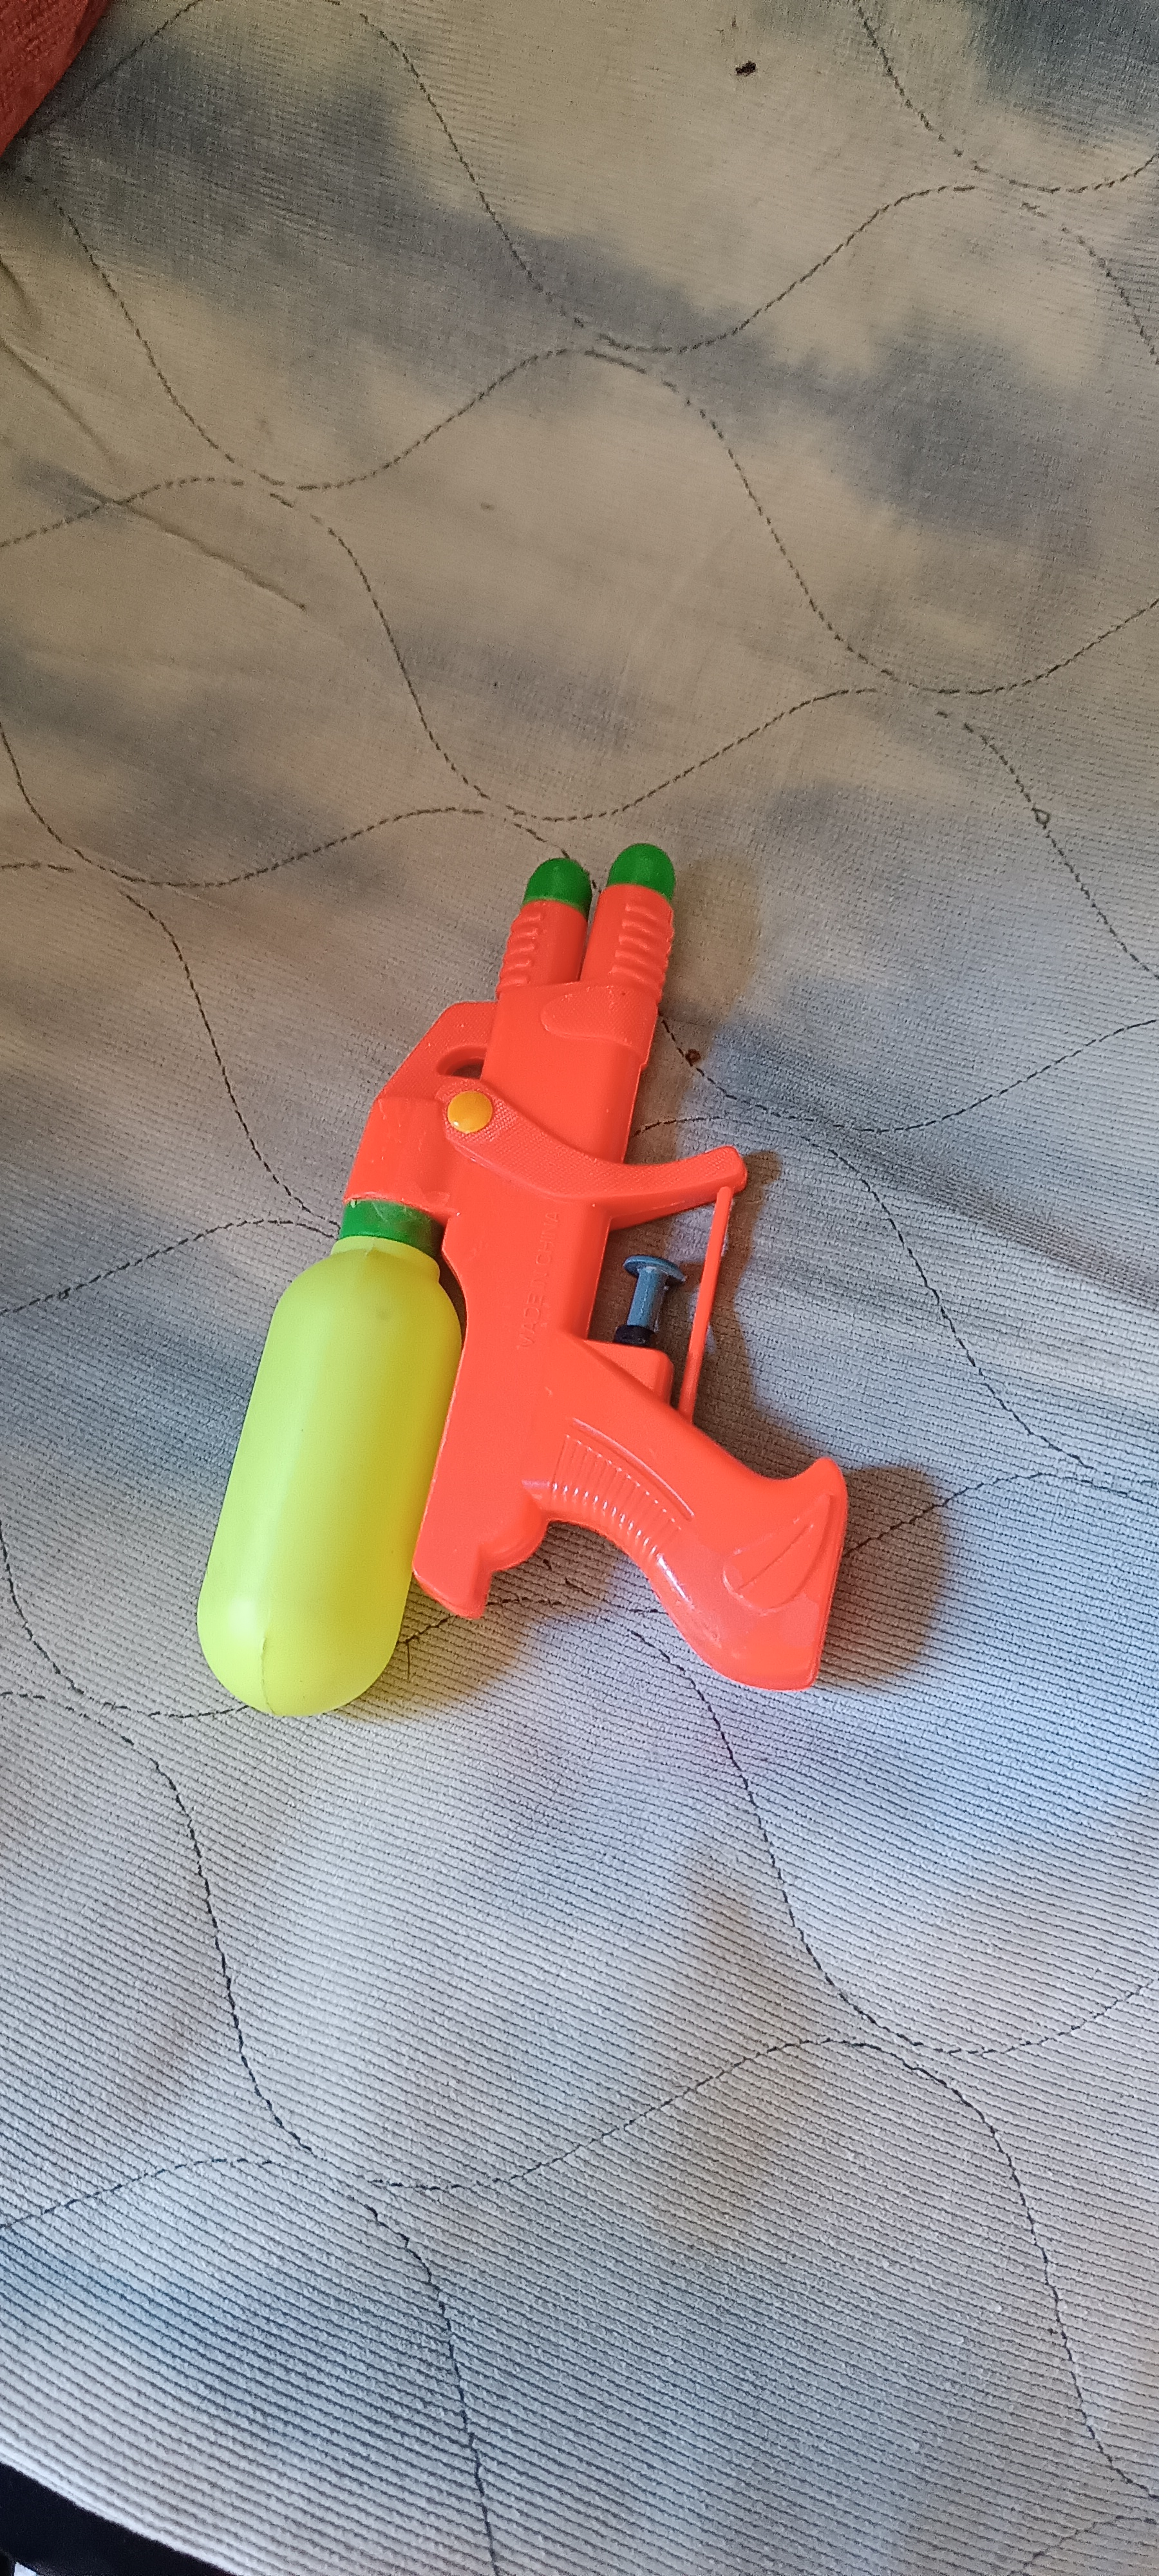Water Gun: (197, 844, 850, 1717)
